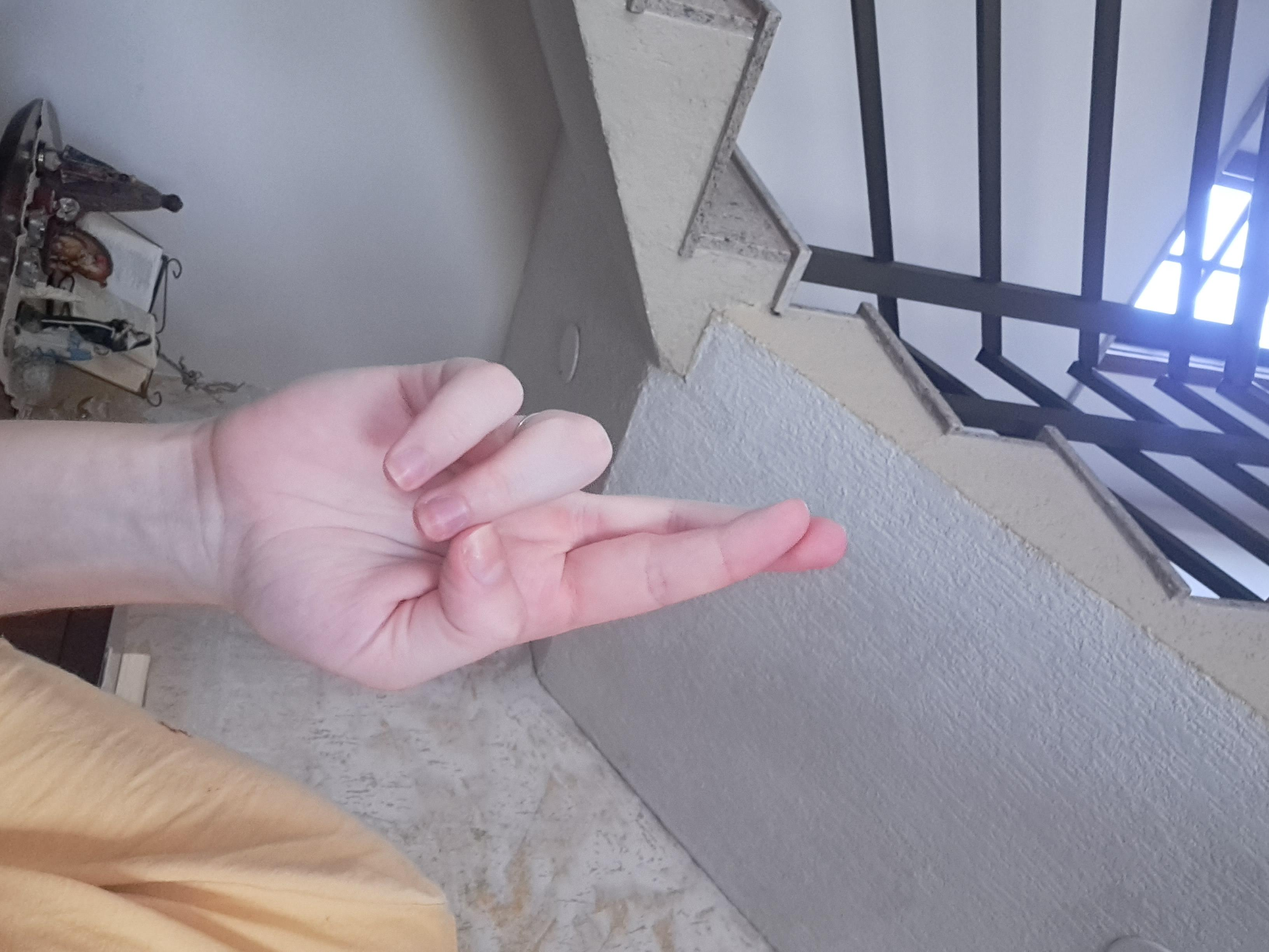R: (430, 298, 943, 814)
